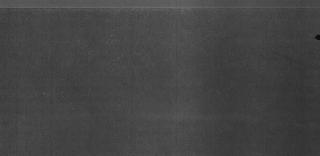punching hole: (314, 32, 320, 40)
welding line: (1, 6, 320, 13)
